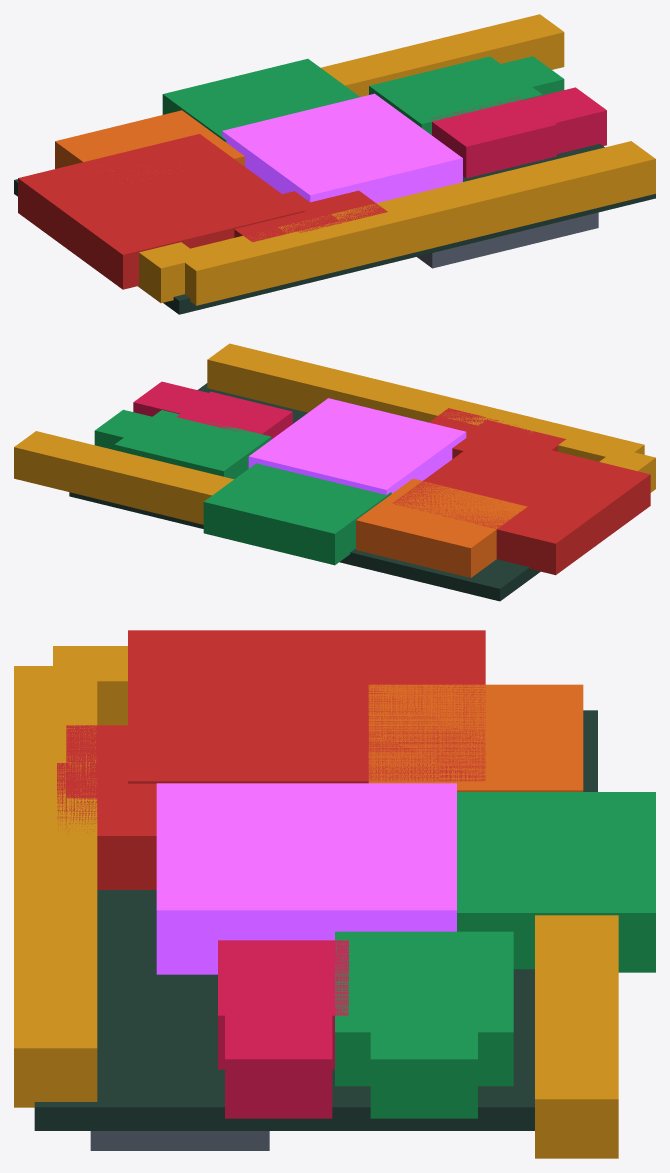
File: BeeBoard_v0_1_Micro.glb
3 renders of one model, top to bottom at view 1: azimuth 30°, elevation 25°; view 2: azimuth 150°, elevation 25°; view 3: azimuth 270°, elevation 25°, orthographic. The views are drawn at different scales.
Visible parts, largest first — view 1: =>[0:1:1:9], =>[0:1:1:3], =>[0:1:1:29], =>[0:1:1:27], =>[0:1:1:31] (×2), =>[0:1:1:25], =>[0:1:1:7], =>[0:1:1:15], =>[0:1:1:13], =>[0:1:1:5], =>[0:1:1:32], =>[0:1:1:11] (×2) (+4 smaller); view 2: =>[0:1:1:9], =>[0:1:1:3], =>[0:1:1:7], =>[0:1:1:5], =>[0:1:1:25], =>[0:1:1:31] (×2), =>[0:1:1:13], =>[0:1:1:27], =>[0:1:1:32], =>[0:1:1:29], =>[0:1:1:15], =>[0:1:1:11] (×2) (+3 smaller); view 3: =>[0:1:1:9], =>[0:1:1:3], =>[0:1:1:32], =>[0:1:1:7], =>[0:1:1:5], =>[0:1:1:13], =>[0:1:1:25], =>[0:1:1:31] (×2), =>[0:1:1:27], =>[0:1:1:11] (×2), =>[0:1:1:17], =>[0:1:1:15] (+4 smaller).
Boxes of the visible parts, <box> form: =>[0:1:1:9]: <box>18,134,304,289</box>; =>[0:1:1:3]: <box>222,93,462,202</box>; =>[0:1:1:29]: <box>172,198,450,305</box>; =>[0:1:1:27]: <box>278,170,544,279</box>; =>[0:1:1:31] (×2): <box>427,141,655,243</box>; =>[0:1:1:25]: <box>321,14,564,96</box>; =>[0:1:1:7]: <box>162,58,359,142</box>; =>[0:1:1:15]: <box>430,96,556,178</box>; =>[0:1:1:13]: <box>369,56,542,135</box>; =>[0:1:1:5]: <box>55,110,244,183</box>; =>[0:1:1:32]: <box>14,144,655,314</box>; =>[0:1:1:11] (×2): <box>234,190,387,242</box>; =>[0:1:1:9]: <box>392,434,650,575</box>; =>[0:1:1:3]: <box>248,398,466,494</box>; =>[0:1:1:7]: <box>203,463,391,565</box>; =>[0:1:1:5]: <box>356,478,527,577</box>; =>[0:1:1:25]: <box>14,431,233,524</box>; =>[0:1:1:31] (×2): <box>207,343,412,413</box>; =>[0:1:1:13]: <box>114,410,271,479</box>; =>[0:1:1:27]: <box>308,368,548,433</box>; =>[0:1:1:32]: <box>69,383,540,601</box>; =>[0:1:1:29]: <box>393,389,644,461</box>; =>[0:1:1:15]: <box>176,391,292,439</box>; =>[0:1:1:11] (×2): <box>429,408,565,458</box>; =>[0:1:1:9]: <box>128,630,485,783</box>; =>[0:1:1:3]: <box>156,783,456,974</box>; =>[0:1:1:32]: <box>34,710,597,1130</box>; =>[0:1:1:7]: <box>457,792,655,972</box>; =>[0:1:1:5]: <box>368,684,583,791</box>; =>[0:1:1:13]: <box>335,931,513,1086</box>; =>[0:1:1:25]: <box>535,915,618,1158</box>; =>[0:1:1:31] (×2): <box>14,878,97,1107</box>; =>[0:1:1:27]: <box>14,754,97,955</box>; =>[0:1:1:11] (×2): <box>57,725,156,889</box>; =>[0:1:1:17]: <box>225,1015,332,1118</box>; =>[0:1:1:15]: <box>218,940,348,1069</box>.
Size of the model in its own units: 0.0235 by 0.00337 by 0.0137.
